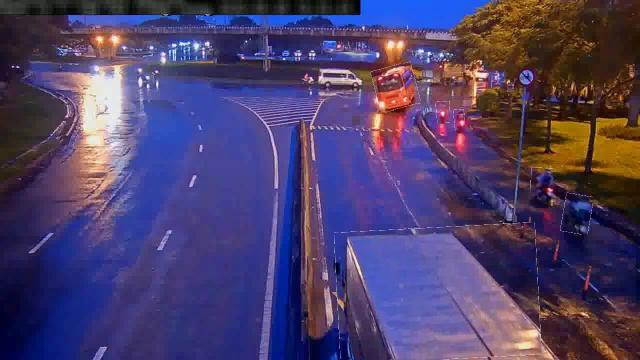Bike: (562, 194, 592, 234), (531, 168, 553, 206), (436, 101, 450, 123), (454, 109, 464, 130)
Bus: (373, 63, 419, 110)
Truck: (336, 225, 540, 359)
